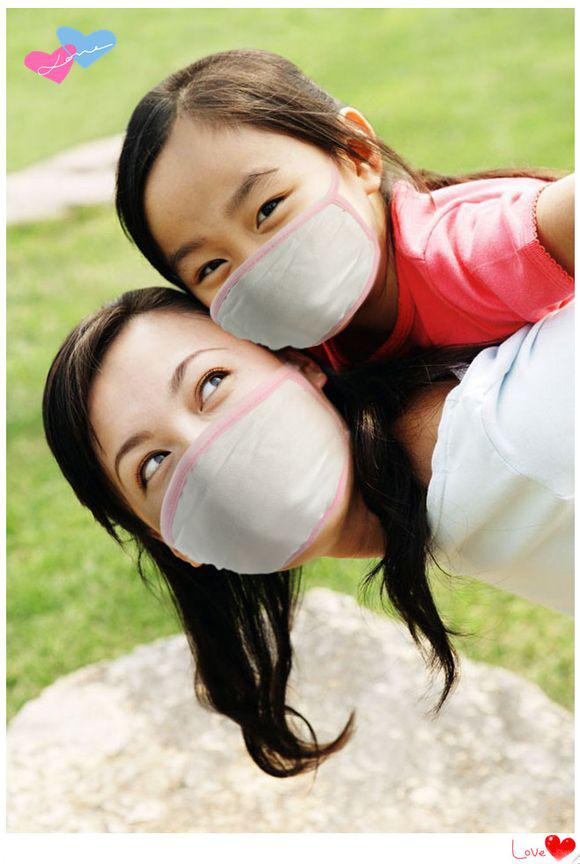OK: (106, 341, 337, 572), (161, 129, 380, 351)
